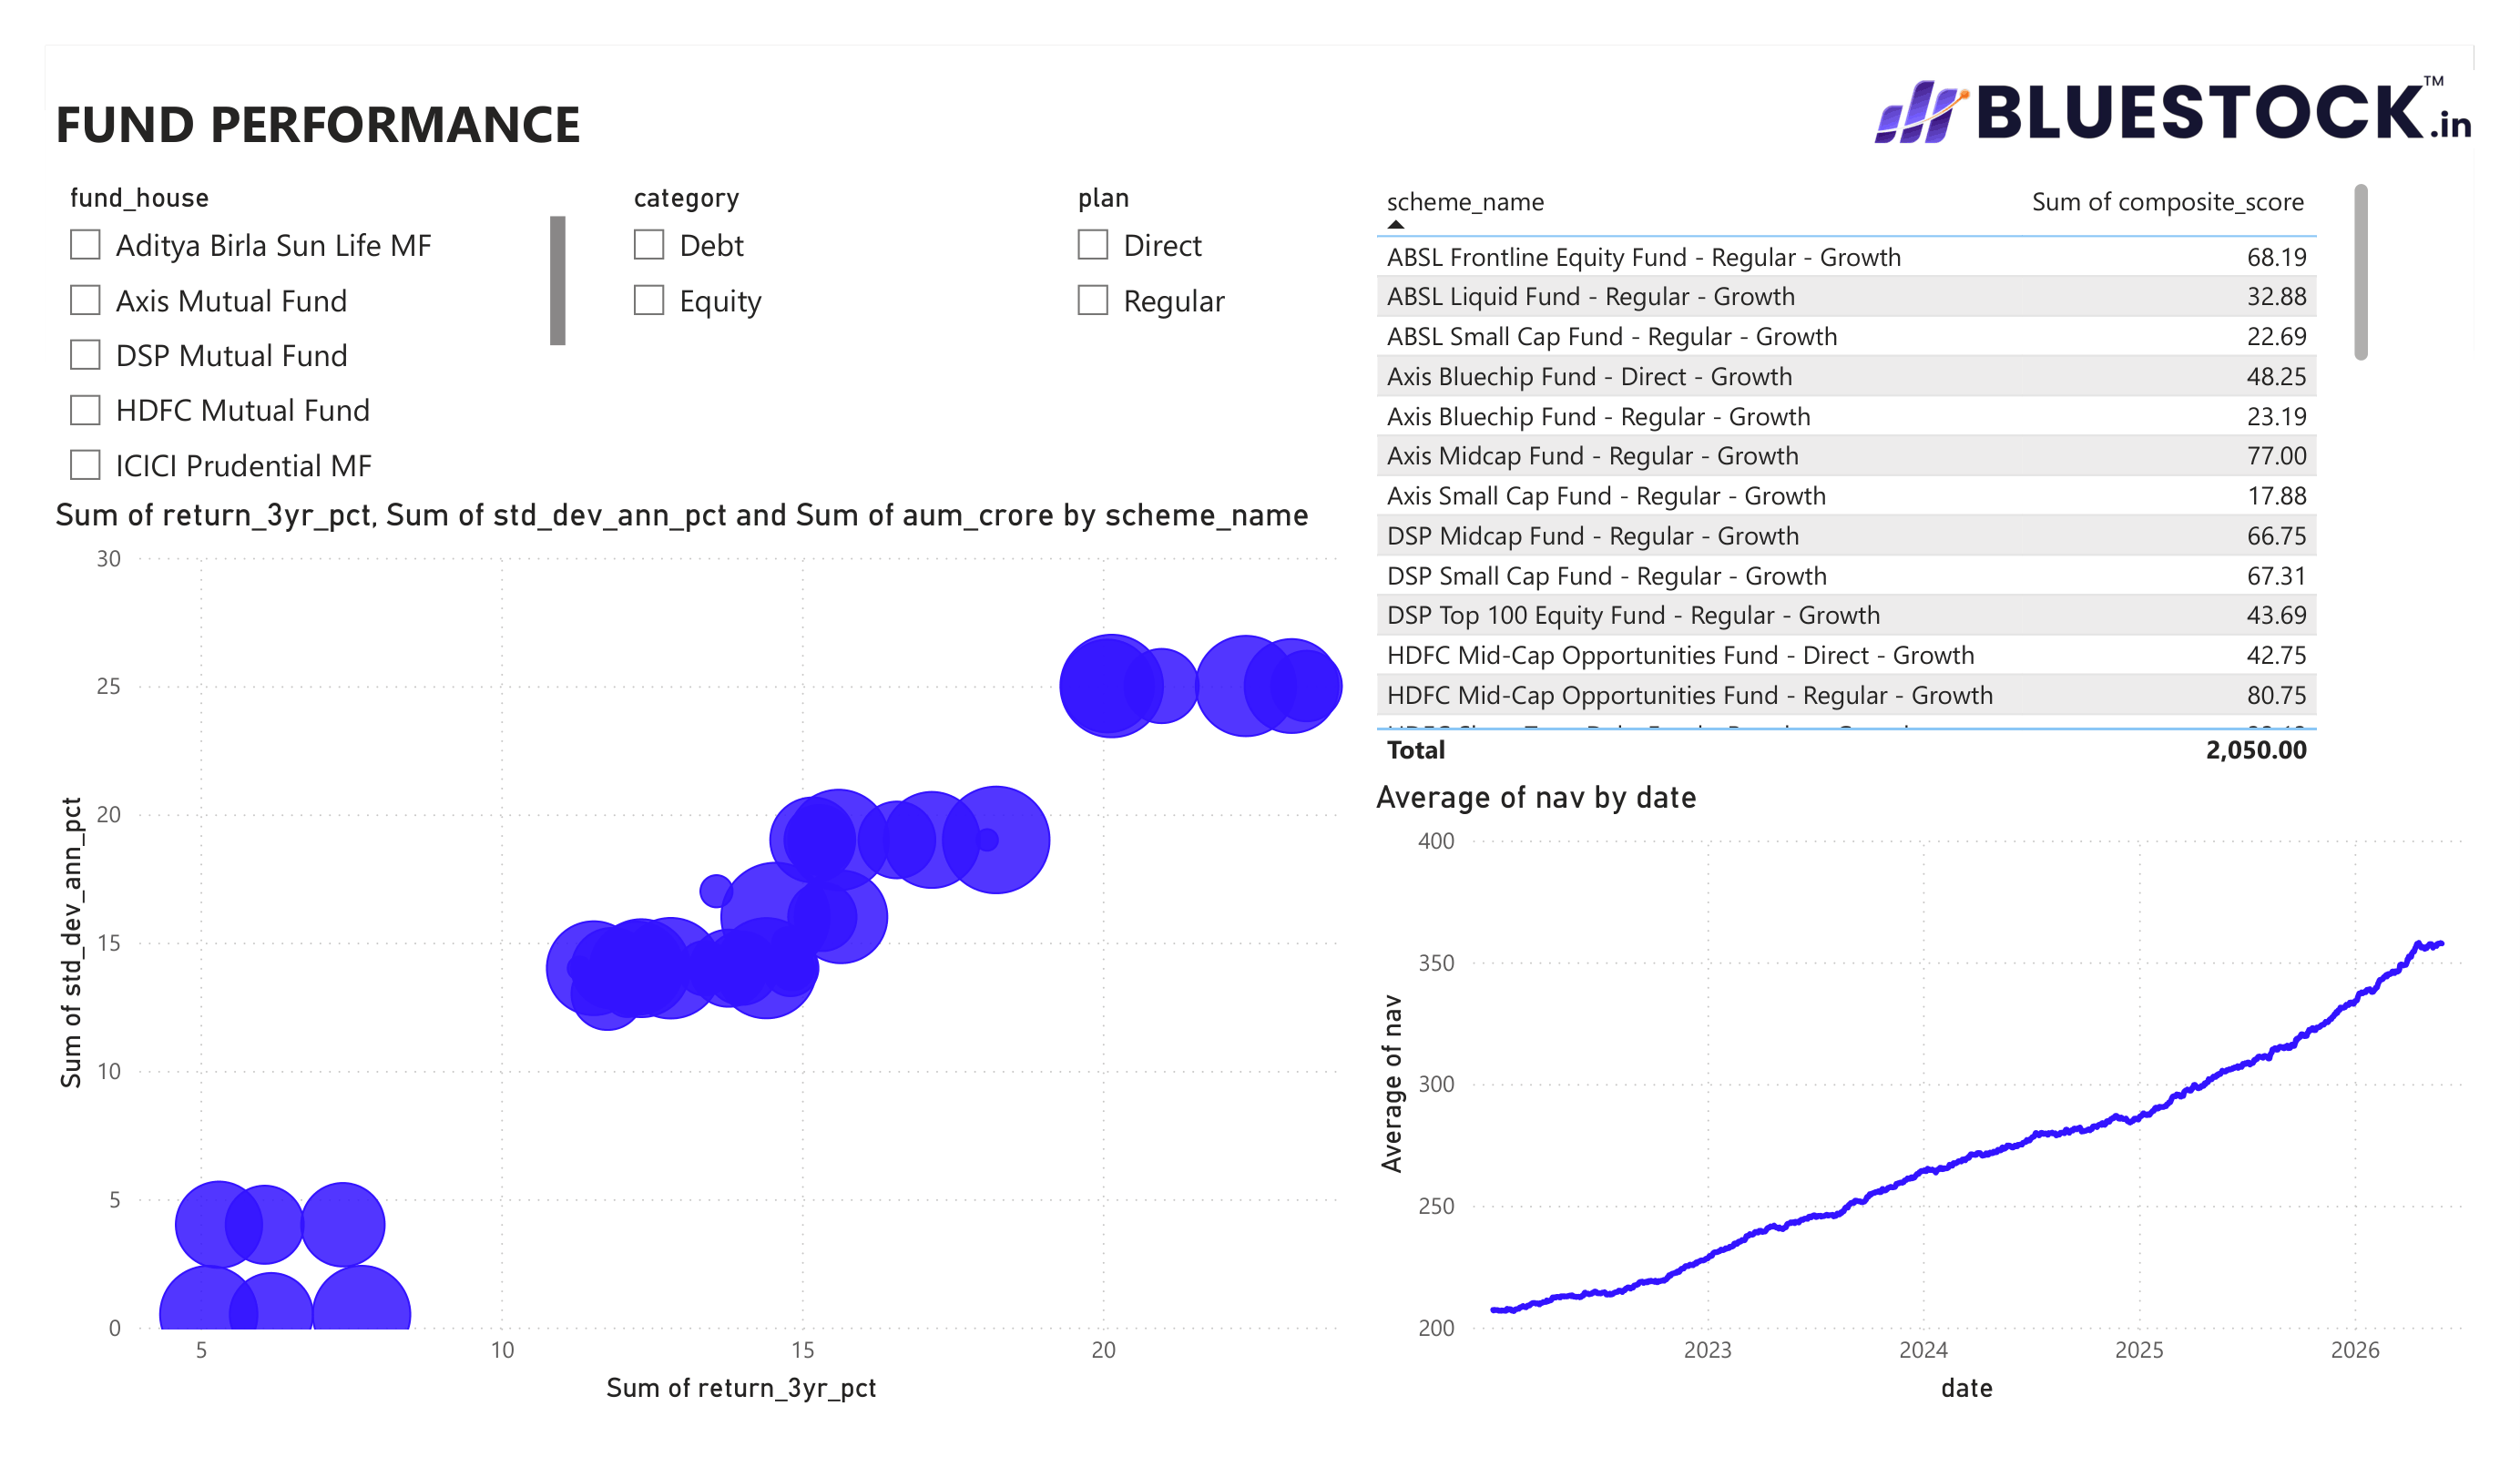

The dashboard page shown, as its layout file describes it:
{"tool":"powerbi","page":{"name":"Page 2","canvas":[1280,720],"ordinal":1},"visuals":[{"type":"textbox","box":[0,0,309.8,67.4],"z":0},{"type":"slicer","fields":{"Values":["clean_fund_master.fund_house"]},"box":[0,67.4,278.7,169.8],"z":1000},{"type":"slicer","fields":{"Values":["clean_fund_master.category"]},"box":[296.8,67.4,220.3,169.8],"z":2000},{"type":"slicer","fields":{"Values":["clean_fund_master.plan"]},"box":[531.4,67.4,151.6,158.1],"z":3000},{"type":"scatterChart","fields":{"X":["Sum(clean_performance.return_3yr_pct)"],"Y":["Sum(clean_performance.std_dev_ann_pct)"],"Size":["Sum(clean_performance.aum_crore)"],"Category":["clean_performance.scheme_name"]},"box":[0,237.2,696,483.4],"z":4000},{"type":"tableEx","fields":{"Values":["clean_fund_master.scheme_name","Sum(fund_scorecard.composite_score)"]},"box":[696,67.4,534,318.8],"z":5000},{"type":"lineChart","fields":{"Category":["clean_nav.date"],"Y":["Avg(clean_nav.nav)"]},"box":[696,386.2,584.5,334.4],"z":6000},{"type":"image","box":[963,0,317.5,67.4],"z":6001}]}

Visuals, with their boxes on the page's 1280x720 design canvas (x1, y1, x2, y2). These are canvas units, not pixel positions in the 2520x1457 screenshot, which may show the page scaled, cropped or inside an application window:
textbox: [left=0, top=0, right=310, bottom=67]
slicer - clean_fund_master.fund_house: [left=0, top=67, right=279, bottom=237]
slicer - clean_fund_master.category: [left=297, top=67, right=517, bottom=237]
slicer - clean_fund_master.plan: [left=531, top=67, right=683, bottom=226]
scatterChart - Sum(clean_performance.return_3yr_pct) x Sum(clean_performance.std_dev_ann_pct): [left=0, top=237, right=696, bottom=721]
tableEx - clean_fund_master.scheme_name x Sum(fund_scorecard.composite_score): [left=696, top=67, right=1230, bottom=386]
lineChart - clean_nav.date x Avg(clean_nav.nav): [left=696, top=386, right=1280, bottom=721]
image: [left=963, top=0, right=1280, bottom=67]
